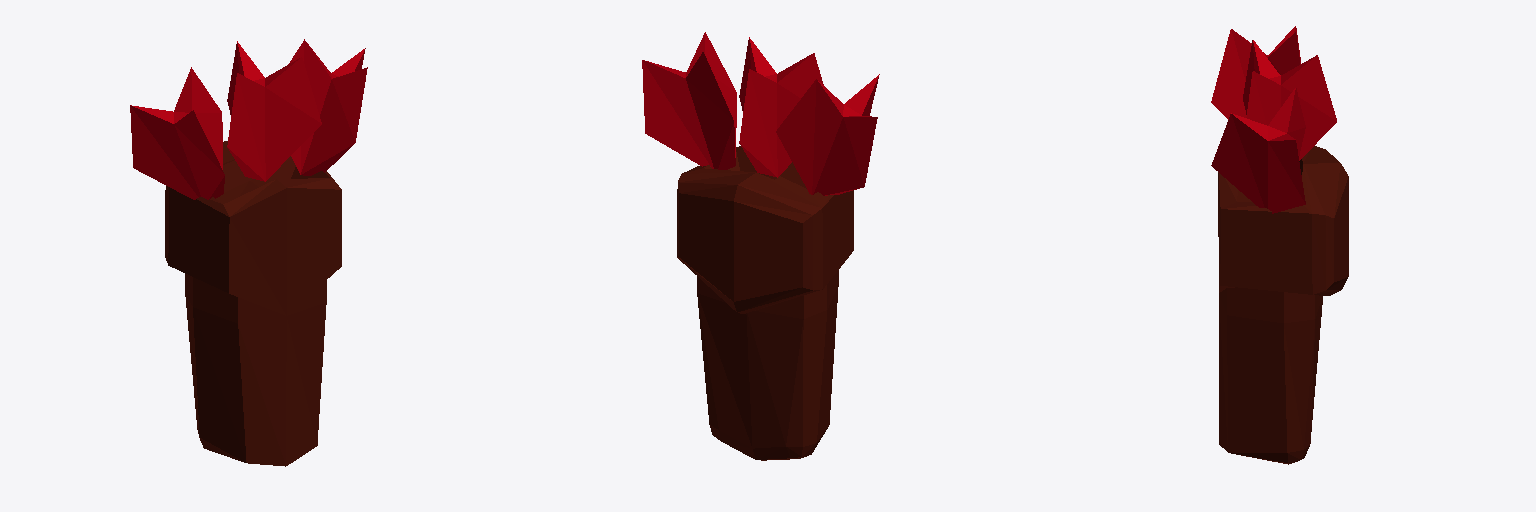
The model's file is goblin_quiver.obj.
The picture shows the model from 3 angles: view 1: azimuth 30°, elevation 25°; view 2: azimuth 150°, elevation 25°; view 3: azimuth 270°, elevation 25°; orthographic projection.
Visible parts, largest first — view 1: goblin_quiver_Cube.630; view 2: goblin_quiver_Cube.630; view 3: goblin_quiver_Cube.630.
Part boxes in pixels (x1,y1,x2,y2): goblin_quiver_Cube.630: (130, 39, 367, 466); goblin_quiver_Cube.630: (642, 32, 879, 460); goblin_quiver_Cube.630: (1211, 26, 1348, 464).
Size of the model in its own units: 0.3728 by 0.6087 by 0.1886.